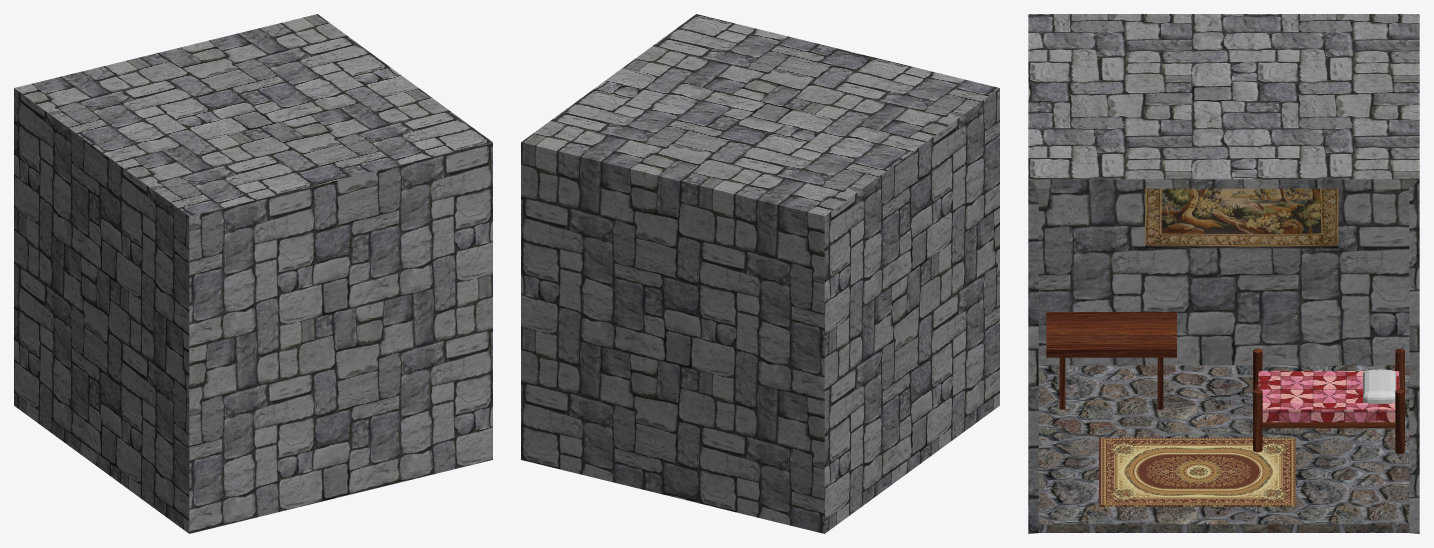
File: RoomBed.dae
The picture shows the model from 3 angles, left to right: view 1: azimuth 30°, elevation 25°; view 2: azimuth 150°, elevation 25°; view 3: azimuth 270°, elevation 25°; orthographic projection. The views are drawn at different scales.
Visible parts, largest first — view 1: Walls; view 2: Walls; view 3: Walls, Floor, Cube_001, Cube, table, mattress, frame, pillow.
Boxes of the visible parts, box(x1,y1,x2,y2) form: Walls: box(14, 14, 492, 533); Walls: box(521, 14, 999, 533); Walls: box(1028, 14, 1419, 533); Floor: box(1038, 365, 1409, 532); Cube_001: box(1099, 438, 1295, 506); Cube: box(1145, 188, 1338, 248); table: box(1046, 312, 1176, 409); mattress: box(1258, 371, 1399, 422); frame: box(1253, 348, 1404, 453); pillow: box(1363, 369, 1396, 404).
Size of the model in its own units: 30 by 30 by 30.07.
8 materials, 8 textured.
